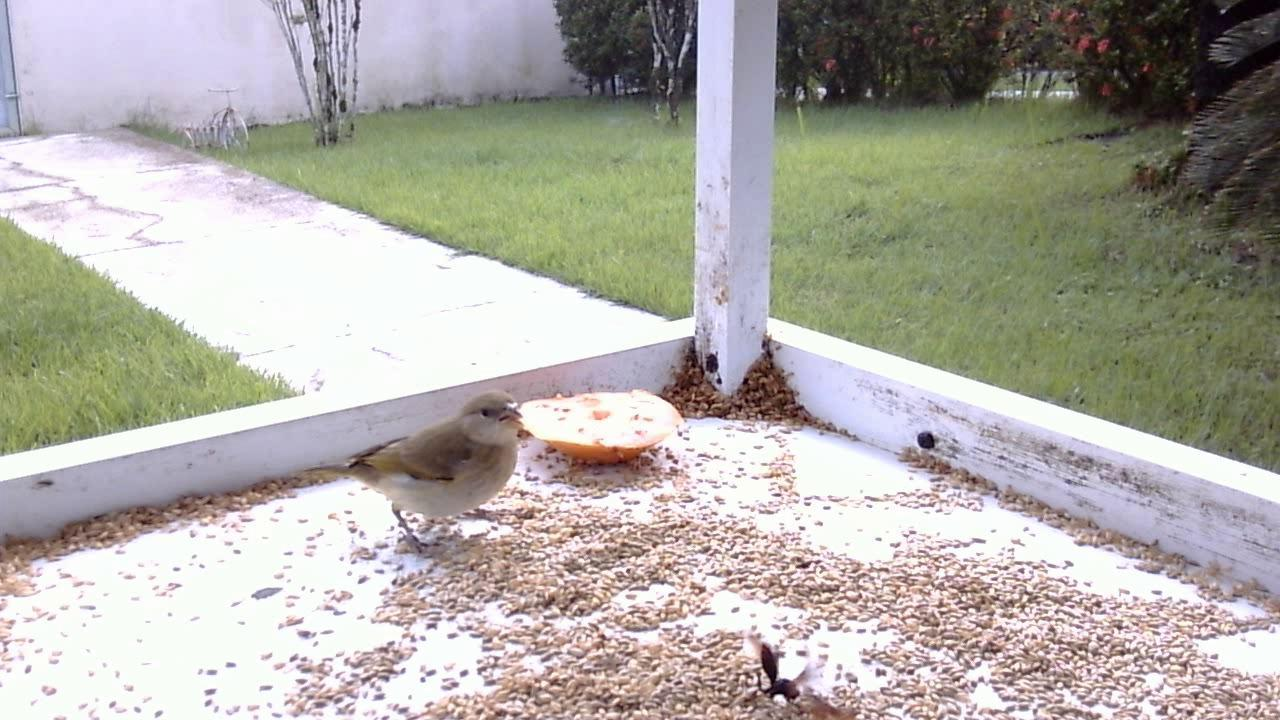canario_do_amazonas: (320, 390, 529, 562)
